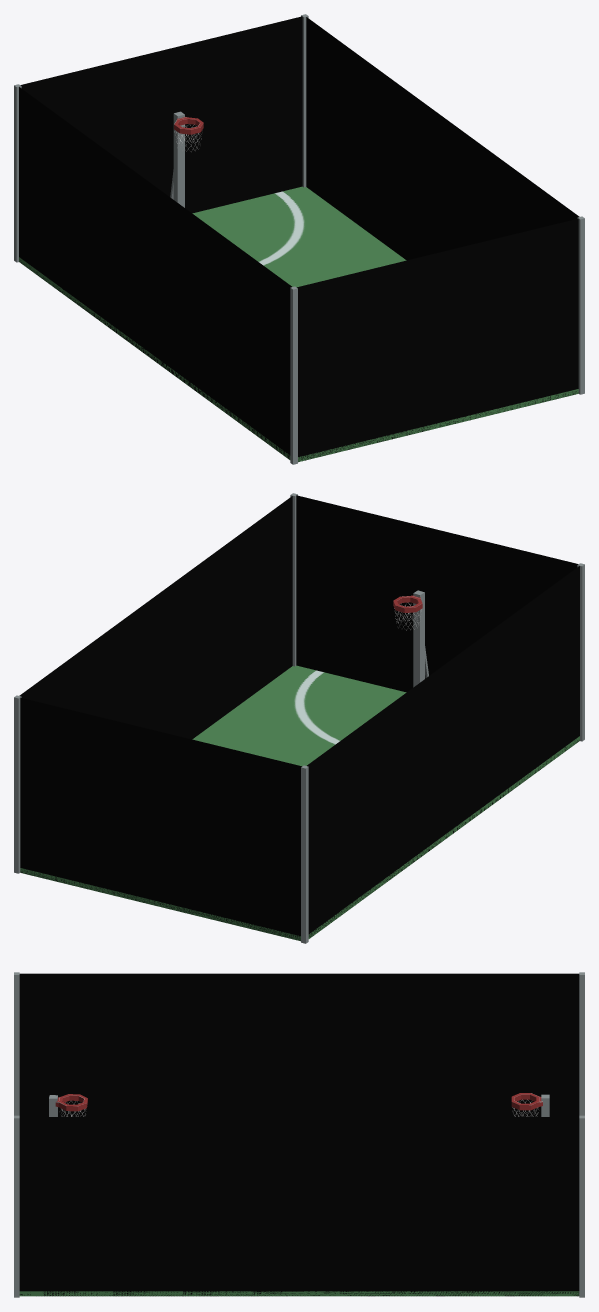
File: lapanganBasket.fbx
3 renders of one model, top to bottom at view 1: azimuth 30°, elevation 25°; view 2: azimuth 150°, elevation 25°; view 3: azimuth 270°, elevation 25°, orthographic. The views are drawn at different scales.
Visible parts, largest first — view 1: LapanganBasket; view 2: LapanganBasket; view 3: LapanganBasket.
Boxes of the visible parts, x1,y1,x2,y2 form: LapanganBasket: [14, 14, 584, 464]; LapanganBasket: [14, 493, 584, 943]; LapanganBasket: [14, 972, 584, 1297].
Size of the model in its own units: 76.25 by 43.75 by 126.
5 materials, 5 textured.
